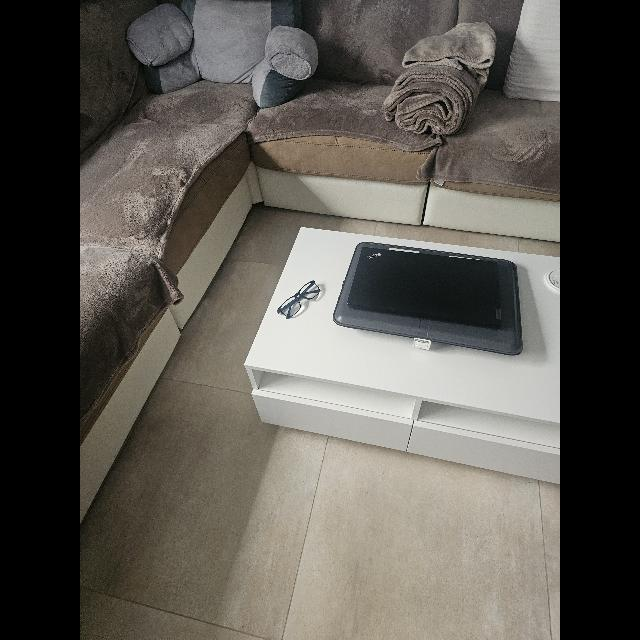glasses: (277, 281, 321, 319)
